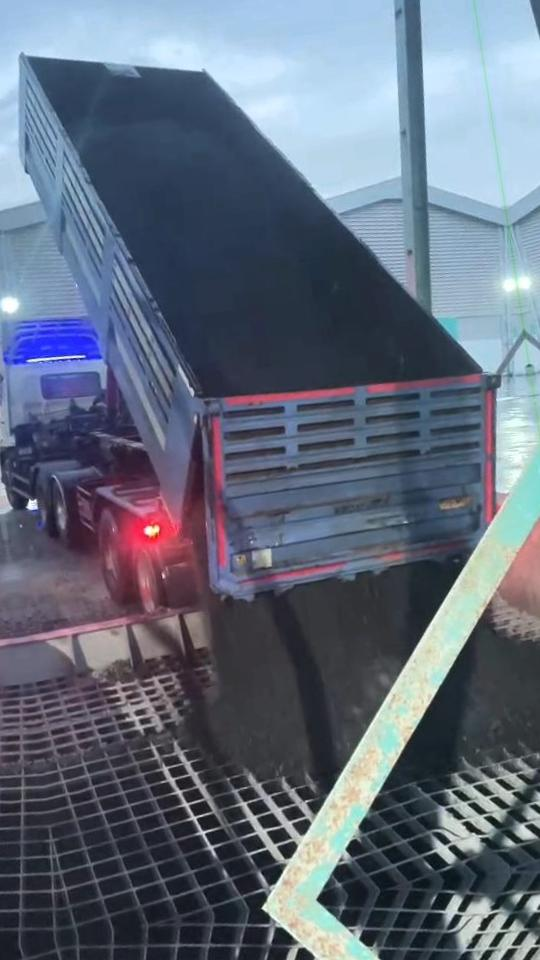gravel: (85, 122, 374, 396), (184, 560, 462, 788), (402, 622, 540, 774)
